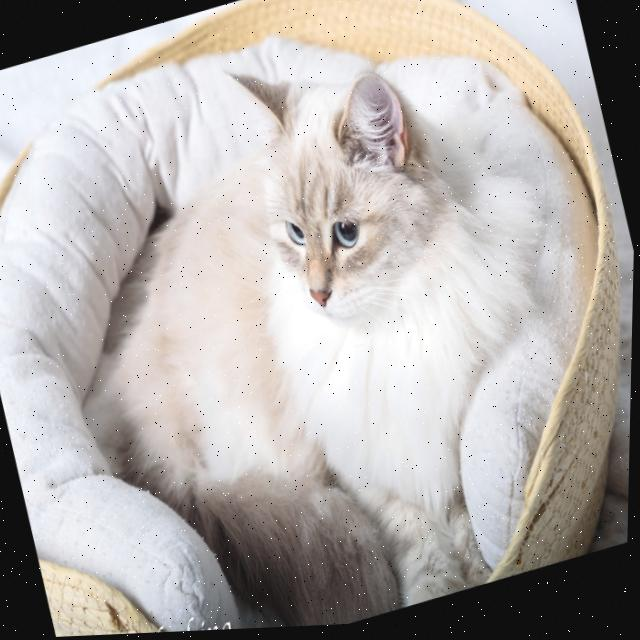Neva Masquerade: (43, 0, 631, 638)
